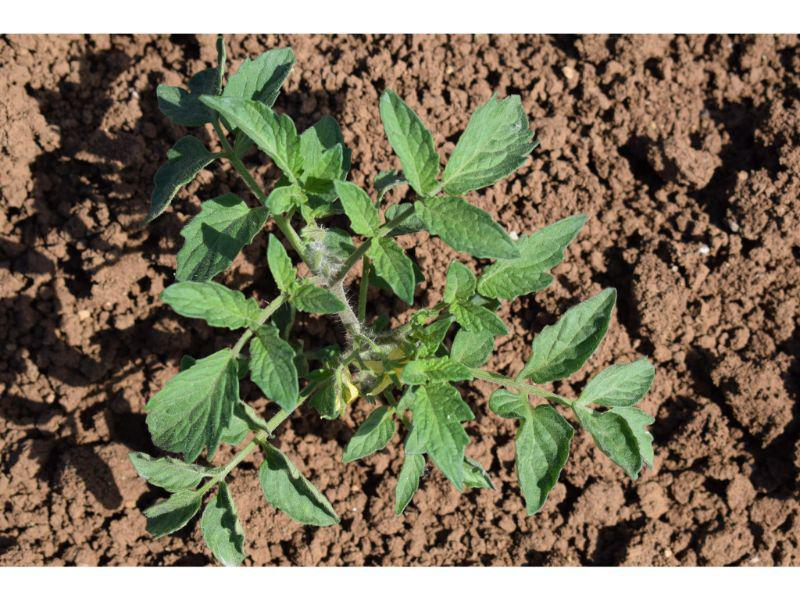tomato: (134, 36, 658, 563)
